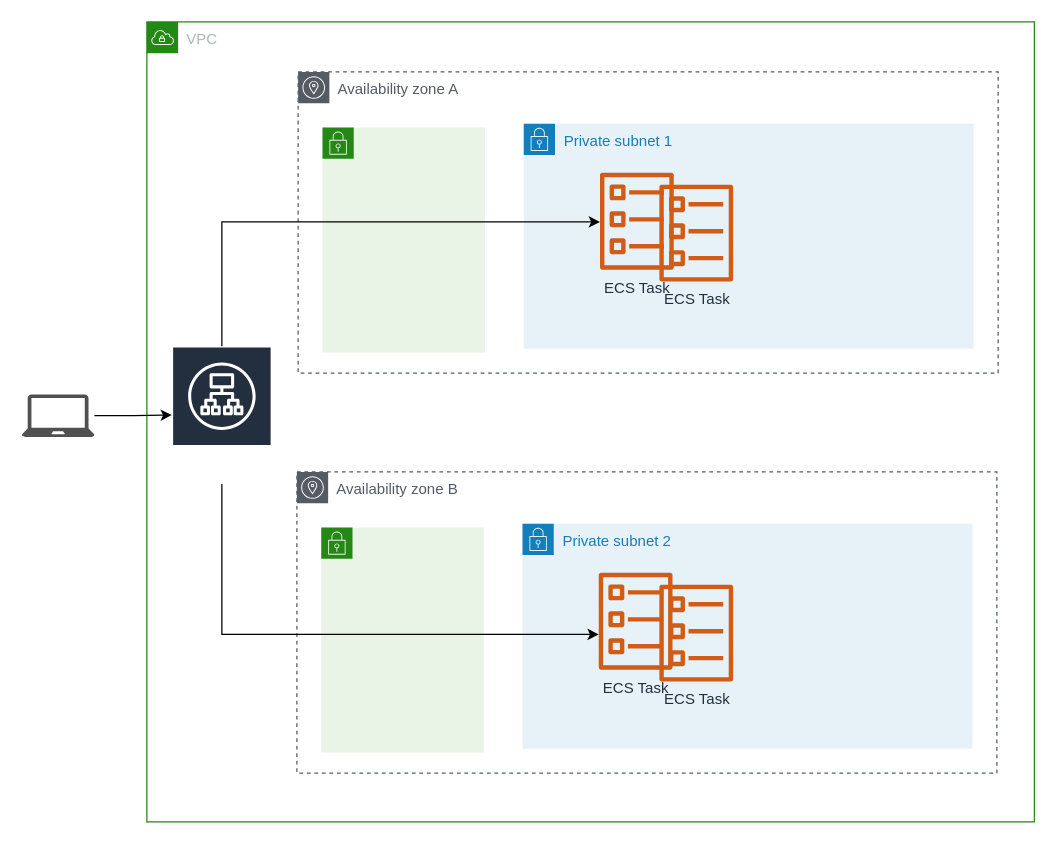
The diagram is 1056 pixels wide and 844 high, and some of its shapes have lost their labels. The shapes that lost their labels are listed below. From the top down, each one's centre as x and y in pixels, then its label:
point 403,239: Public subnet 1
point 221,414: Application Load Balancer
point 402,639: Public subnet 2
